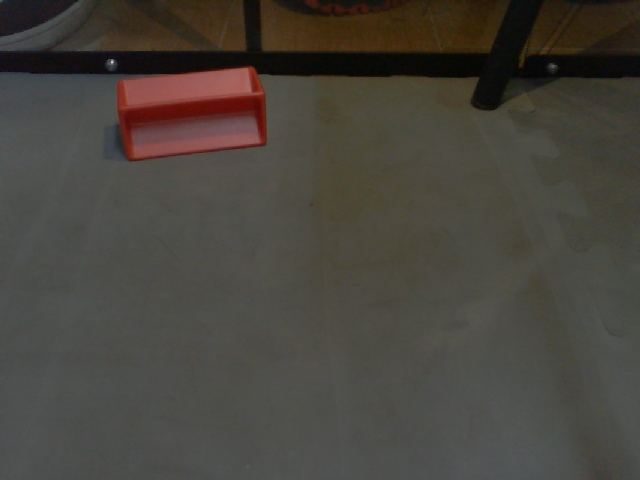RedSample: (114, 66, 269, 163)
